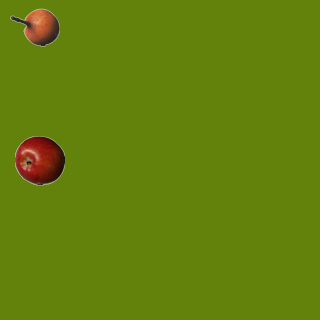Apple Braeburn: (14, 135, 64, 185)
Granadilla: (9, 2, 59, 52)
